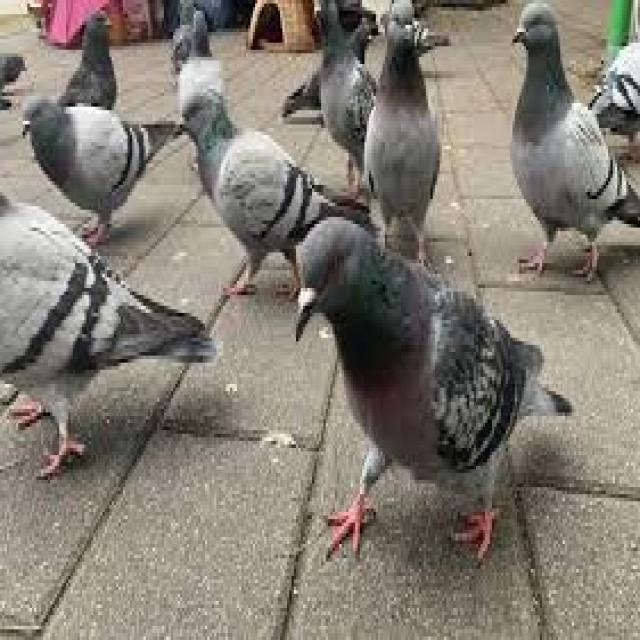pigeon: (288, 200, 573, 593)
